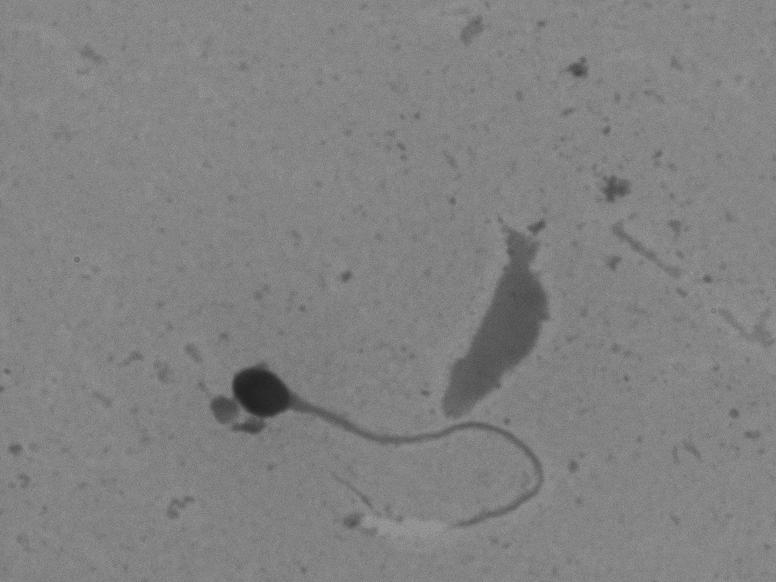Abnormal: (223, 355, 561, 538)
